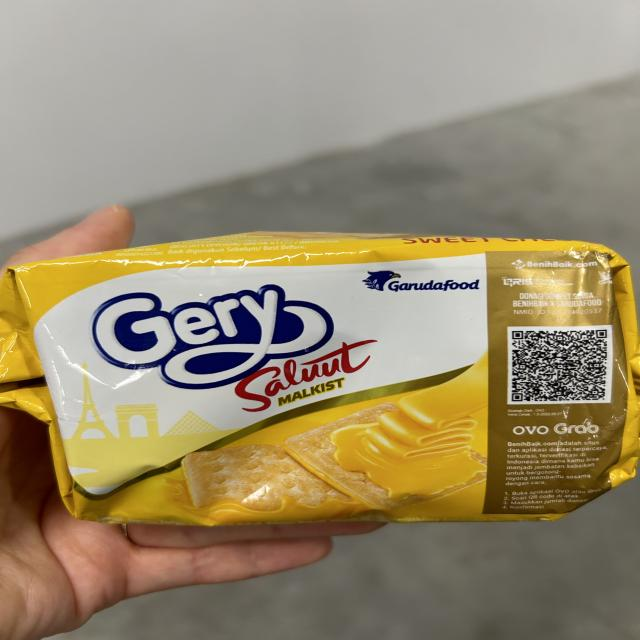object_name: (42, 262, 616, 514)
